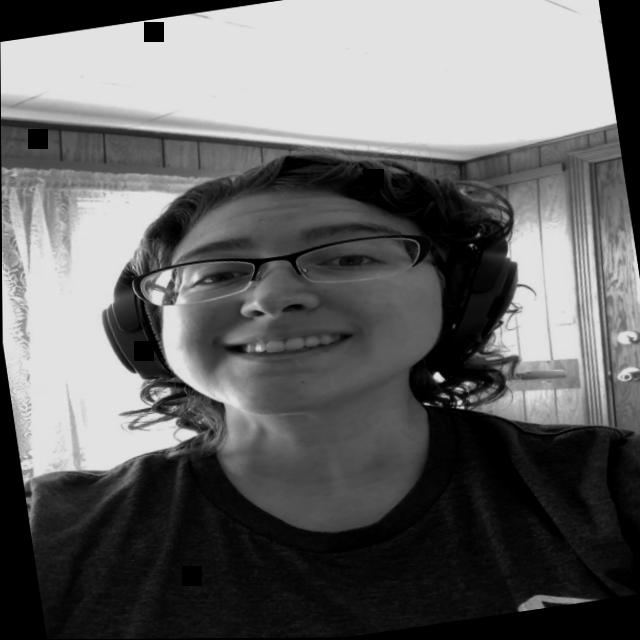NO-Mask: (139, 166, 466, 434)
